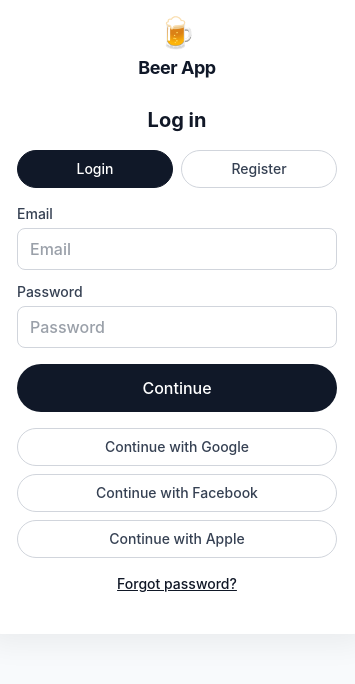
Scenario: AuthPage › logs in, stores the token, and shows a success message
In the field with placeholder "Email": point(177, 249) [17, 228, 337, 270], type "a@example.com"
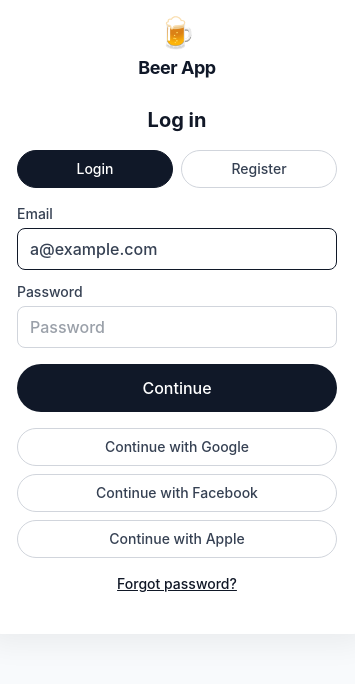
In the password field with placeholder "Password": point(177, 327) [17, 306, 337, 348], type "Passw0rd!"
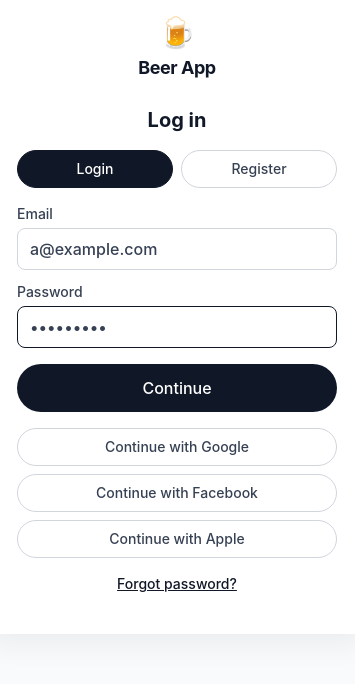
Click the button "Continue": point(177, 388) [17, 364, 337, 412]
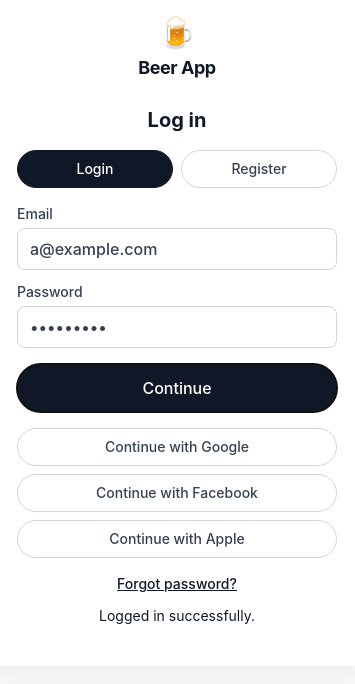
Expected: the text "Logged in successfully." is shown, [99, 607, 255, 624]
